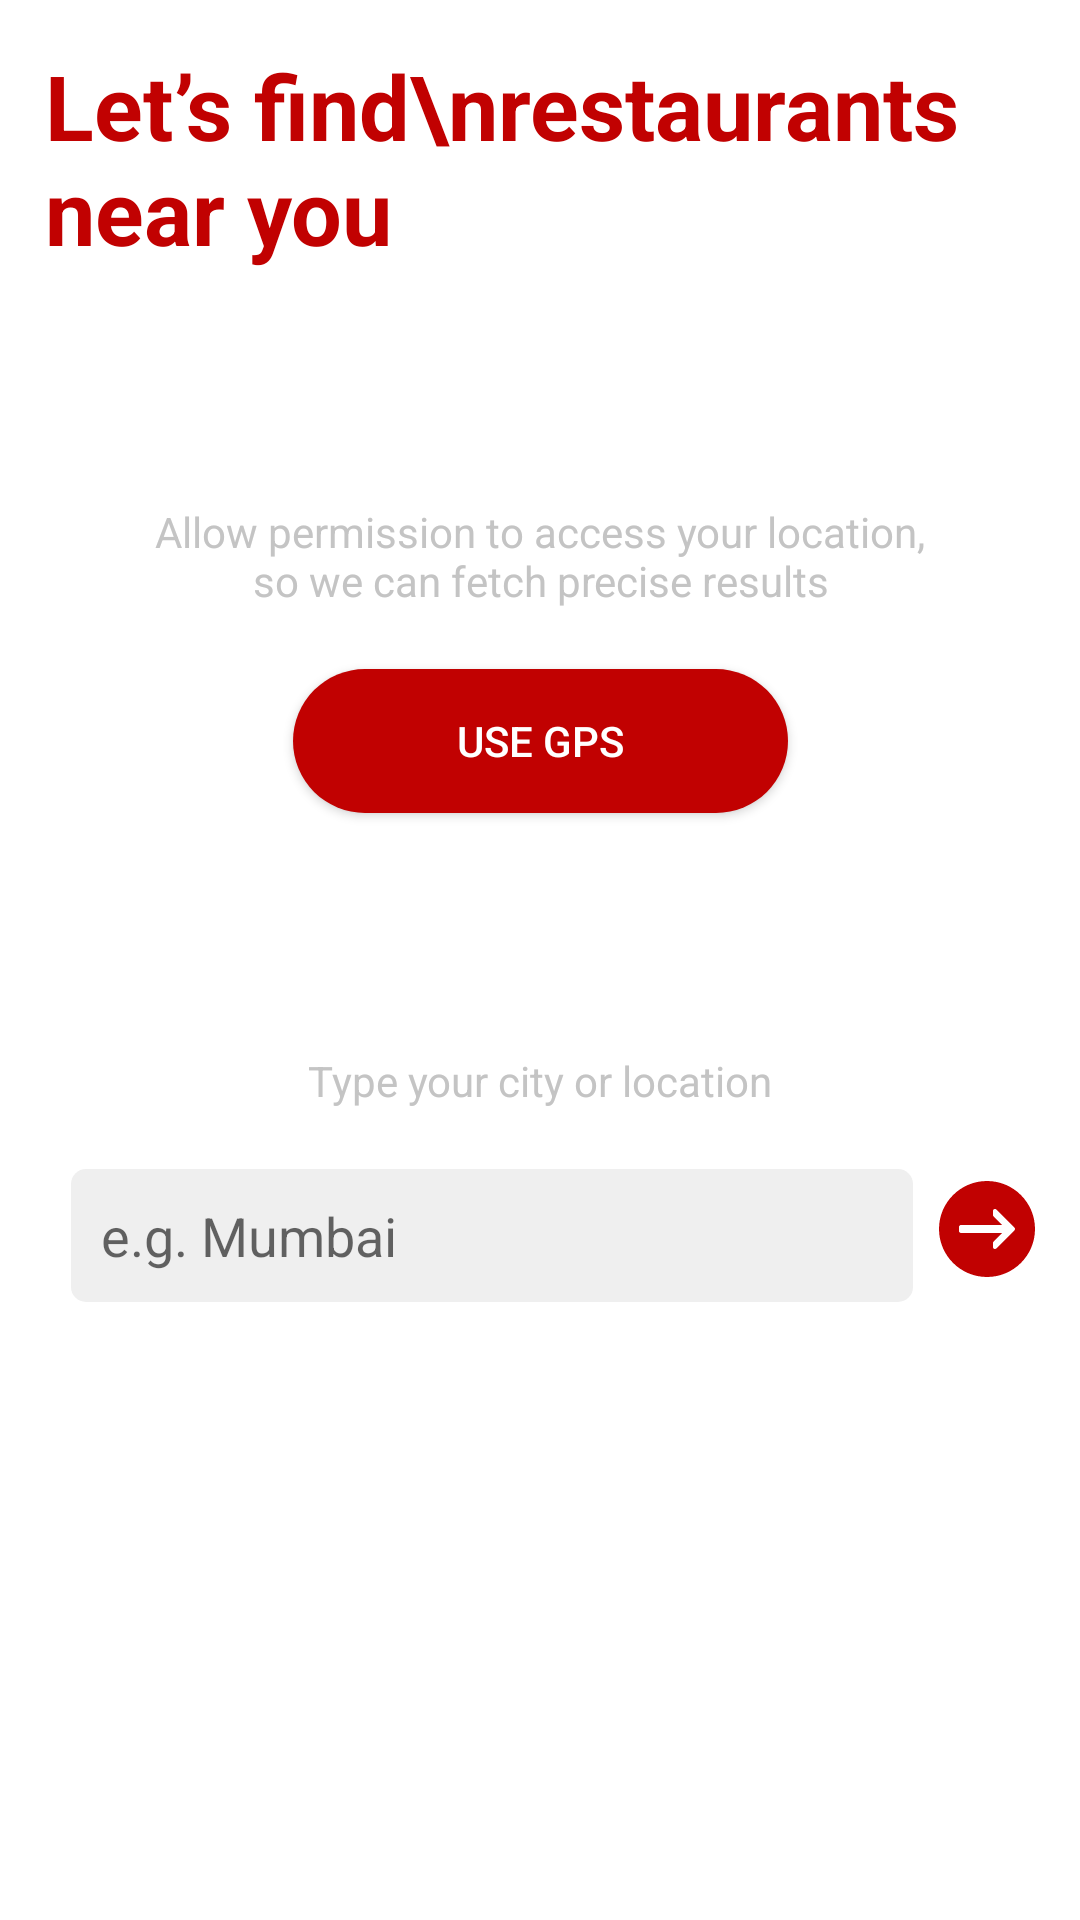

Icon bounding boxes for this 1080 × 1920 phone screenshot, format (x1, y1, x2, y2):
arrow go: (939, 1181, 1035, 1277)
